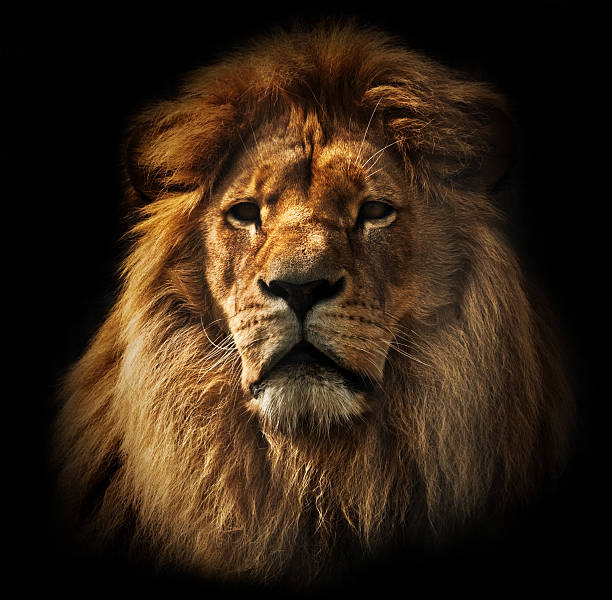lion: (27, 13, 612, 590)
